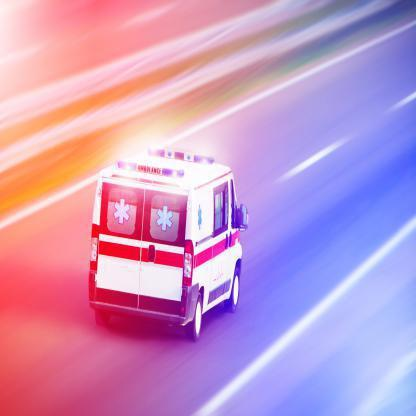Ambulance - v1 Ambulance last generate: (67, 139, 256, 366)
